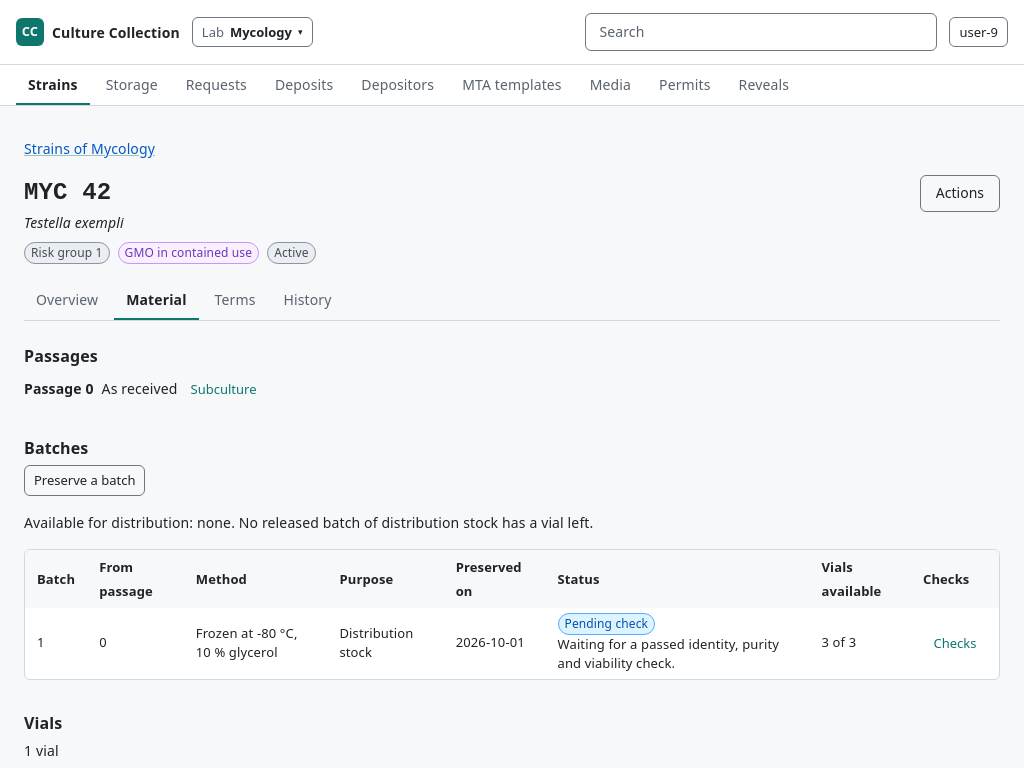
Test: a write refreshes the data other features show › adding a restriction on the strain page refetches the strain's material and marks the lab's box grids stale
The width and height of the screenshot is (1024, 768).
Click the button with aria-label "Actions for MYC 42" at (960, 193), box top-left (920, 175), bottom-right (1000, 212)
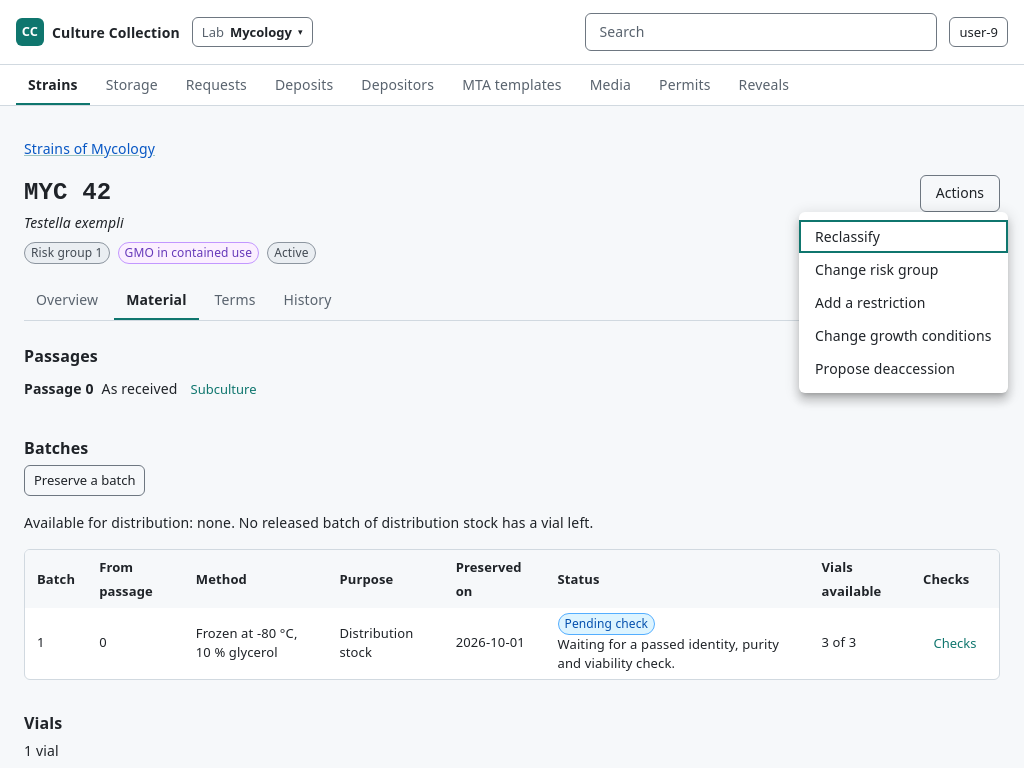
Click the menu item "Add a restriction" at (870, 302), box top-left (815, 293), bottom-right (926, 312)
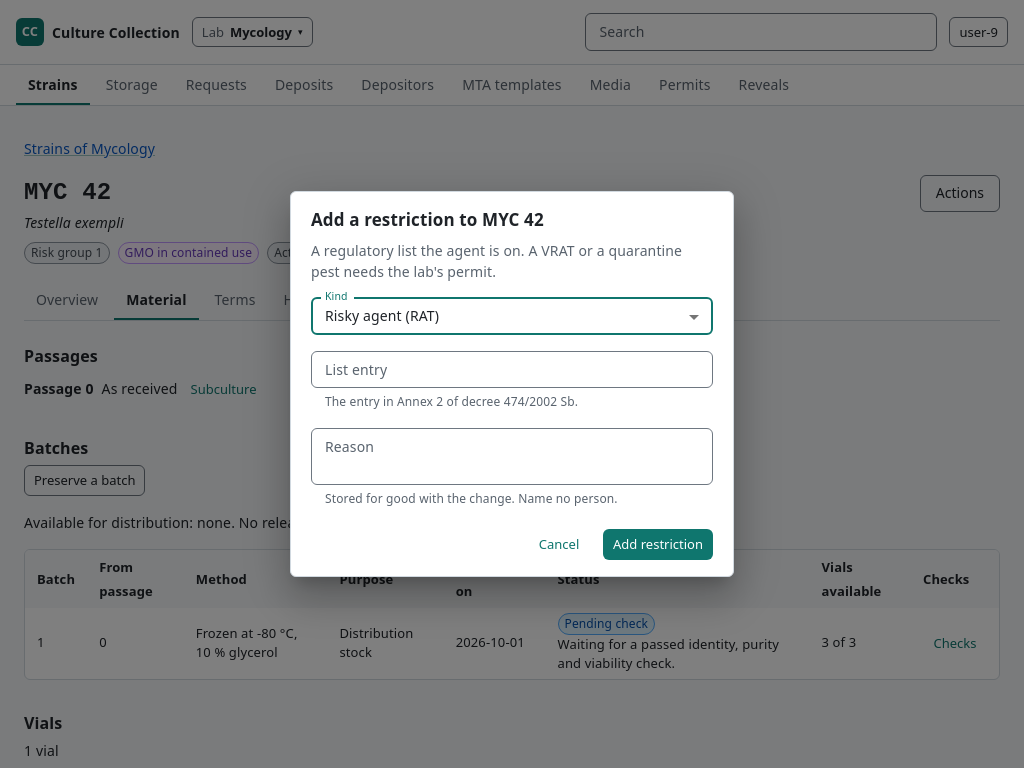
Type "MŽP 2026/13" into the field labelled "List entry" at (512, 370), box top-left (311, 351), bottom-right (713, 388)
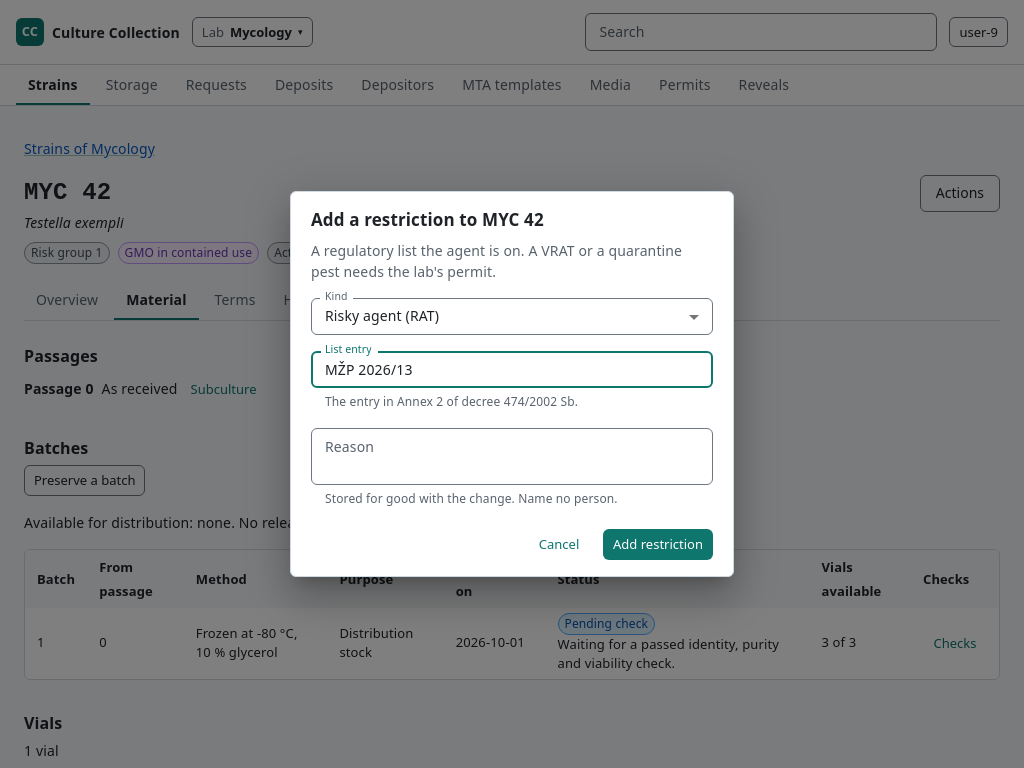
Type "listed" into the text box labelled "Reason" at (512, 457), box top-left (325, 437), bottom-right (699, 477)
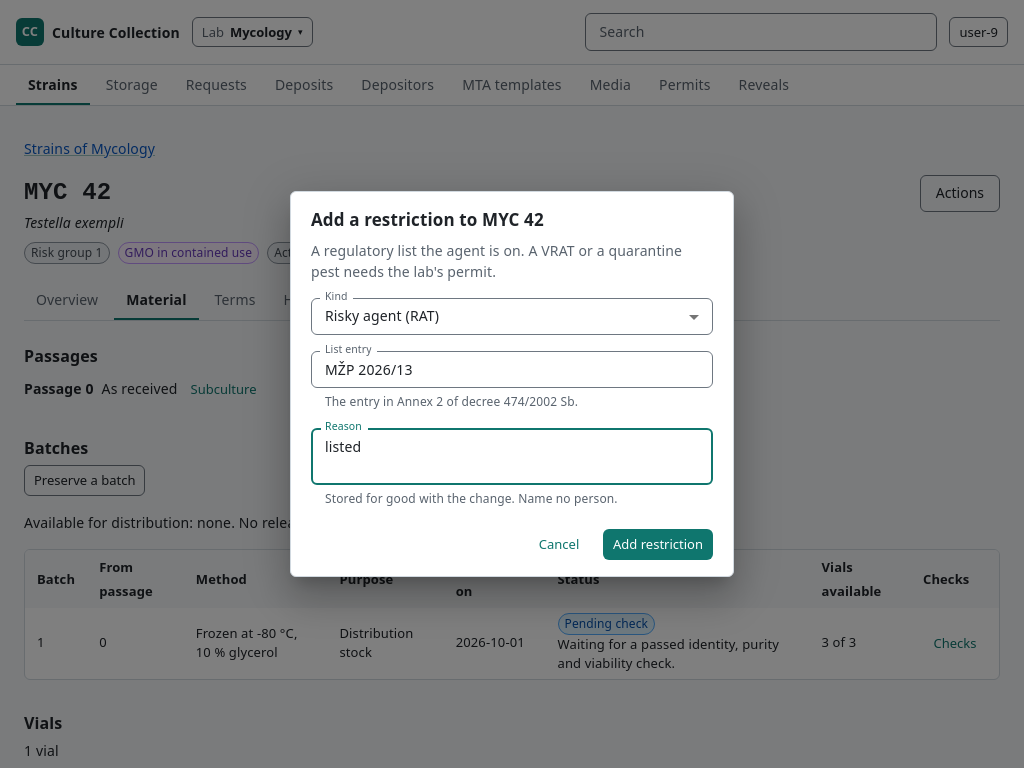
Click the button "Add restriction" at (658, 544), box top-left (603, 529), bottom-right (713, 560)
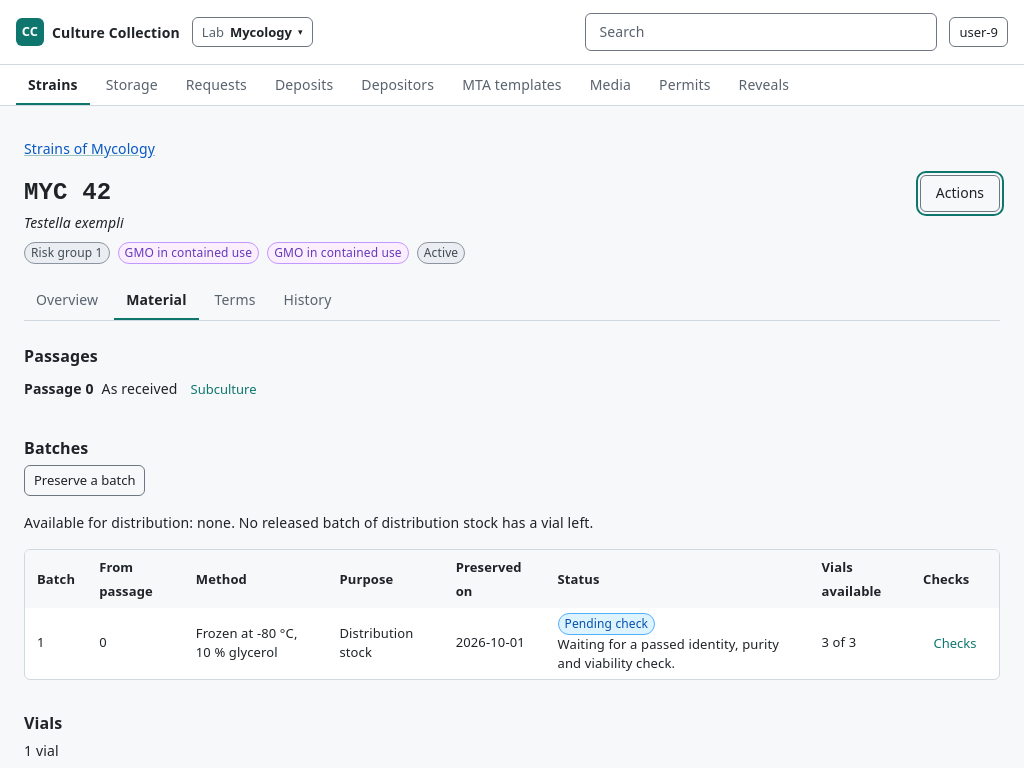
expect the heading "Add a restriction to MYC 42" is gone: met
